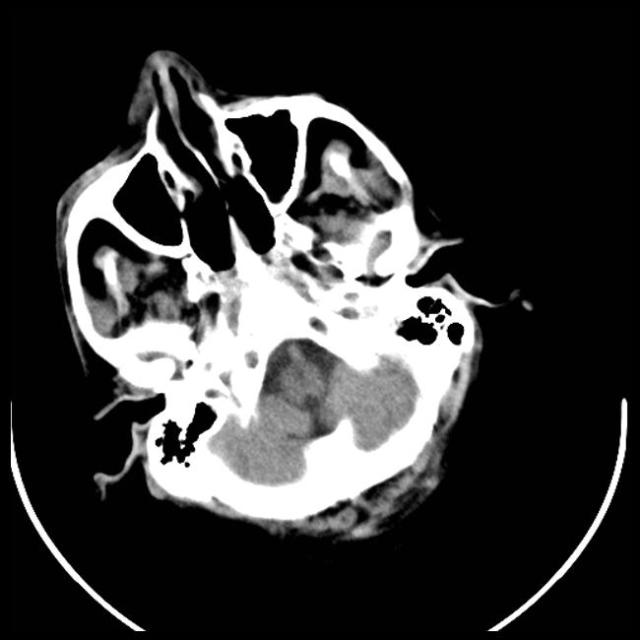lesion: (50, 48, 530, 544)
